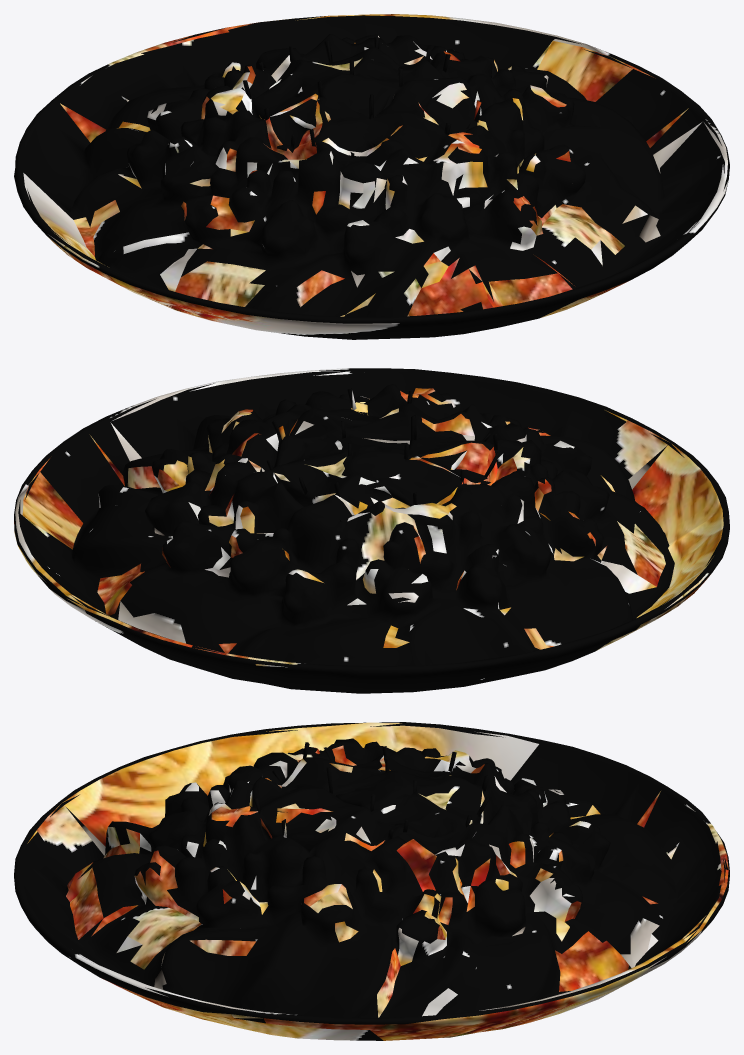
File: spaghetti_bolognese.fbx
3 renders of one model, top to bottom at view 1: azimuth 30°, elevation 25°; view 2: azimuth 150°, elevation 25°; view 3: azimuth 270°, elevation 25°, orthographic.
Parts seen in each view (by area): view 1: meshes[0]; view 2: meshes[0]; view 3: meshes[0].
Part boxes in pixels (x1=…): meshes[0]: x1=14, y1=14, x2=729, y2=339; meshes[0]: x1=14, y1=368, x2=729, y2=693; meshes[0]: x1=14, y1=722, x2=729, y2=1040.
Size of the model in its own units: 99.8 by 22.85 by 99.8.
